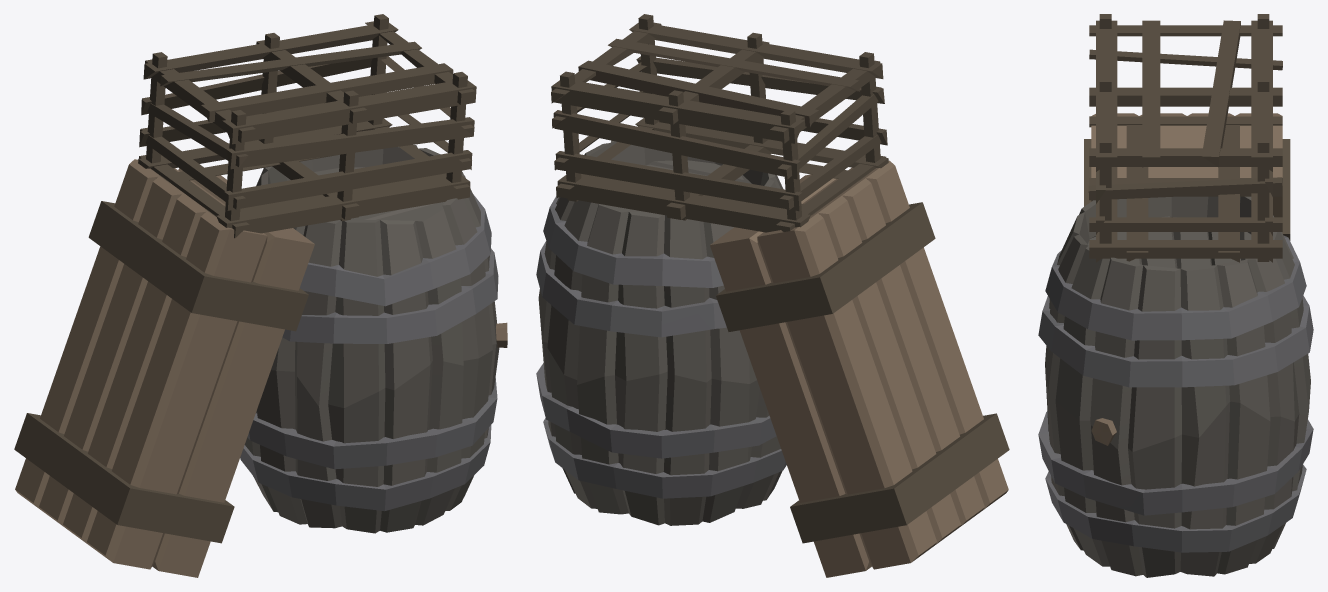
File: Stack4.fbx
The picture shows the model from 3 angles, left to right: view 1: azimuth 30°, elevation 25°; view 2: azimuth 150°, elevation 25°; view 3: azimuth 270°, elevation 25°; orthographic projection.
Visible parts, largest first — view 1: SM_Prop_Stack_20; view 2: SM_Prop_Stack_20; view 3: SM_Prop_Stack_20.
Boxes of the visible parts, x1=… form: SM_Prop_Stack_20: x1=14, y1=14, x2=507, y2=577; SM_Prop_Stack_20: x1=536, y1=14, x2=1009, y2=577; SM_Prop_Stack_20: x1=1038, y1=14, x2=1313, y2=577.
Size of the model in its own units: 134 by 138 by 76.89.
1 material, 1 textured.
